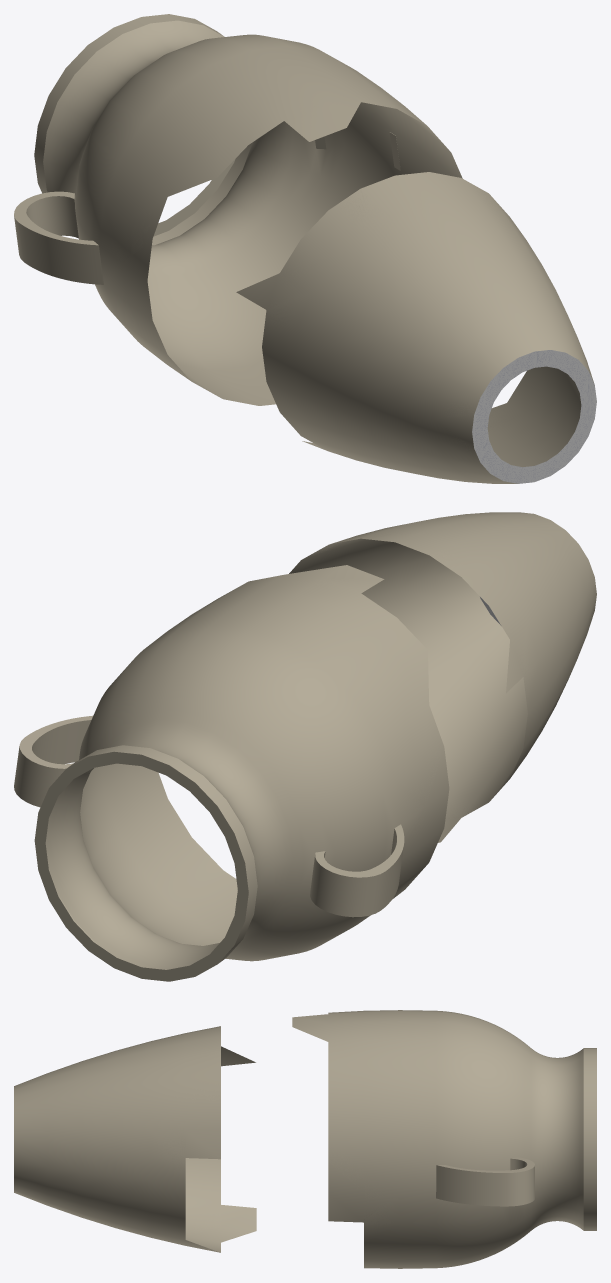
File: vase_large_2_broken.dae
The picture shows the model from 3 angles, top to bottom: view 1: azimuth 30°, elevation 25°; view 2: azimuth 150°, elevation 25°; view 3: azimuth 270°, elevation 25°; orthographic projection. The views are drawn at different scales.
Visible parts, largest first — view 1: SketchUp, SketchUp_002; view 2: SketchUp; view 3: SketchUp.
Part boxes in pixels (x1=…): SketchUp: x1=14, y1=14, x2=594, y2=483; SketchUp_002: x1=472, y1=350, x2=596, y2=483; SketchUp: x1=14, y1=512, x2=596, y2=981; SketchUp: x1=14, y1=1010, x2=596, y2=1268.
Bounding box in the file's own units: 0.6055 × 1.12 × 0.5007.
